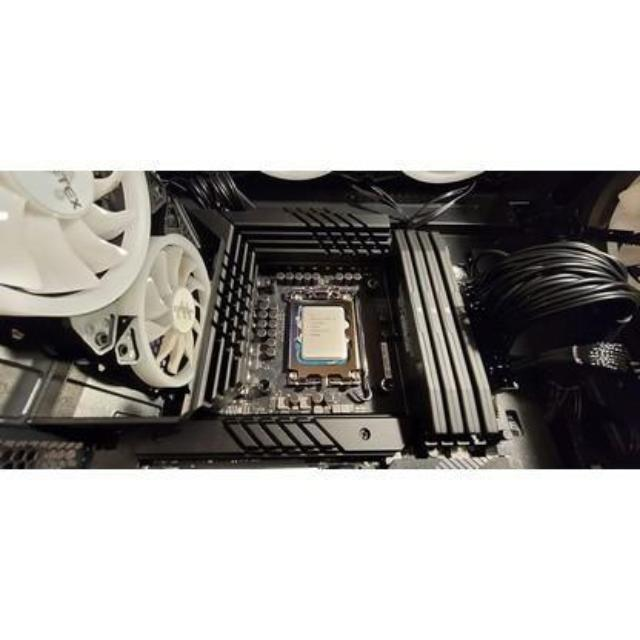CPU: (300, 304, 357, 370)
